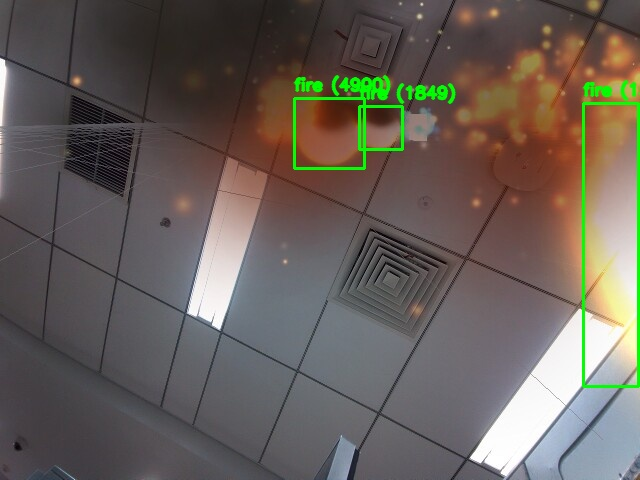fire: (583, 103, 638, 386), (294, 98, 364, 168), (359, 106, 402, 149)
